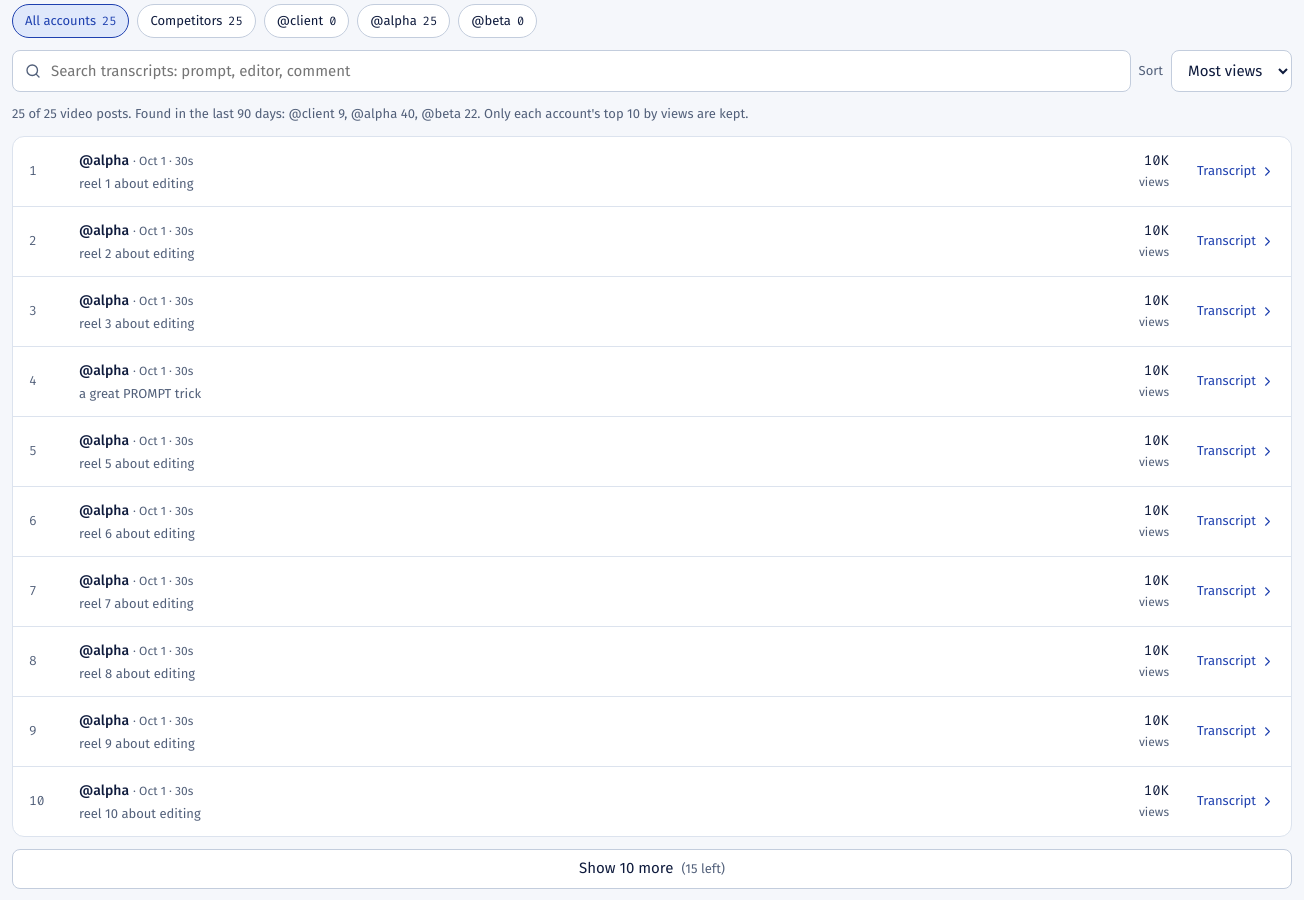
Test: PostsTab › explains an account filter with no posts instead of an empty search
The width and height of the screenshot is (1304, 900).
Click the button "@beta 0" at (498, 21), box [458,4,537,38]
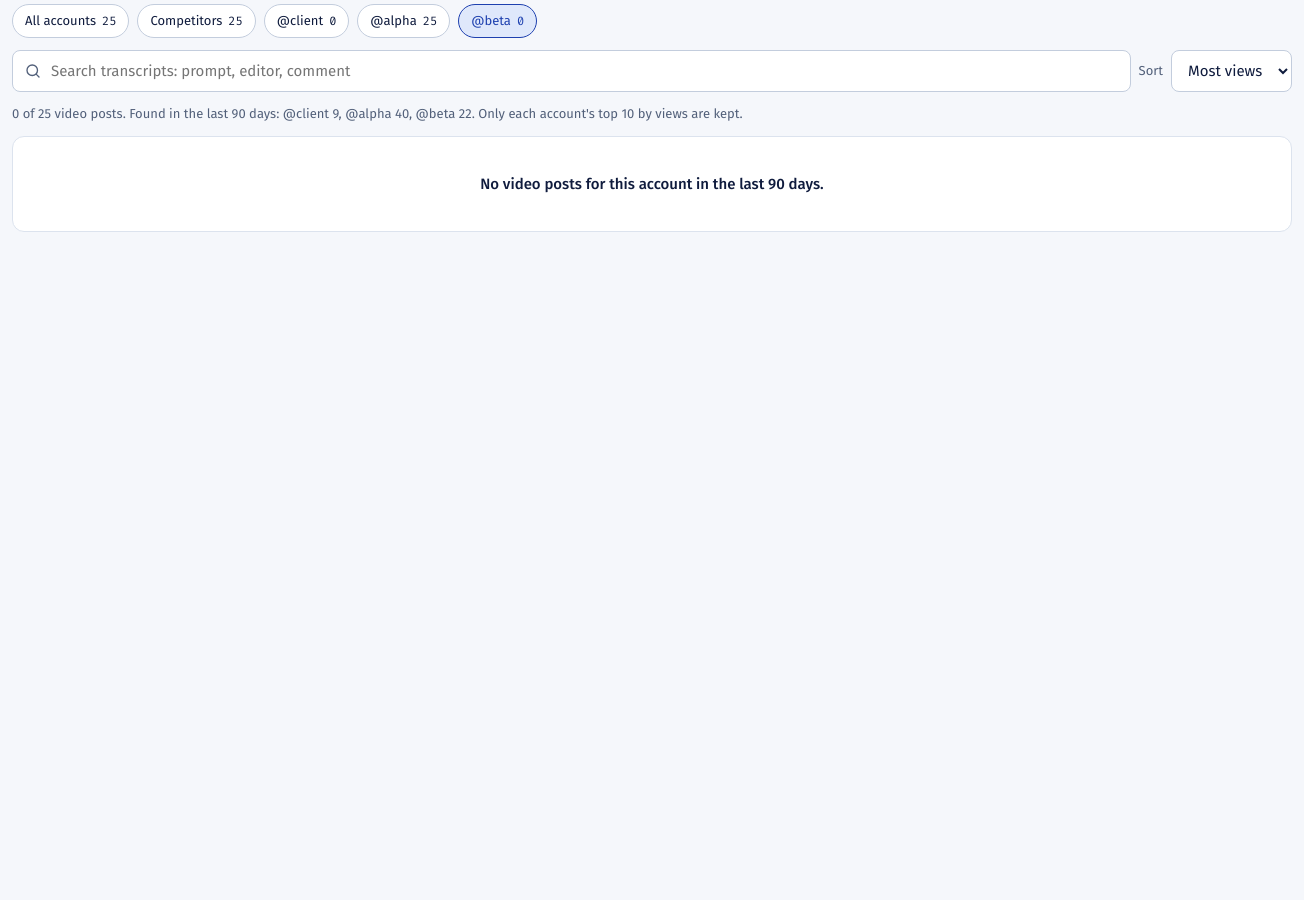
Expected: the text "No video posts for this account in the last 90 days." is shown, [480,172,824,195]
